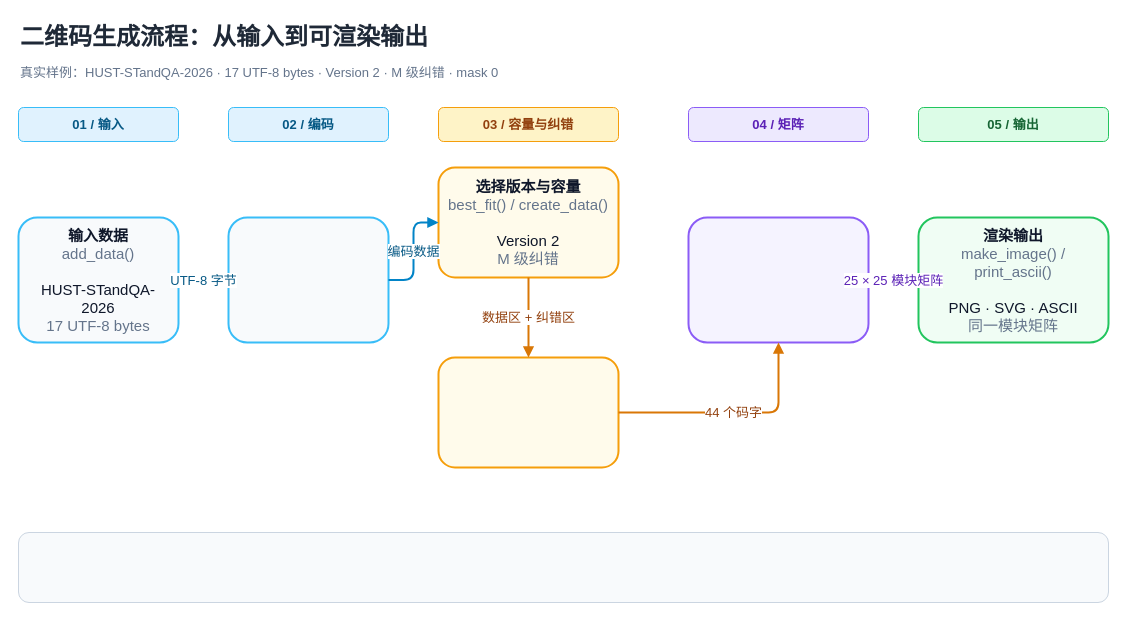
Image size: 1126x620. Some labels were removed from this diagram. Each missing label, with the centre of its shape:
"分析并编码 optimal_data_chunks() BYTE 模式 编码数据" goes at pixel 308 279.
"可核验素材 trace.json：输入、版本、mask、码字、矩阵和输出文件 qr-chain：PNG / SVG / ASCII / matrix bits" goes at pixel 563 567.
"生成模块矩阵 makeImpl() · mask 0 25 × 25 modules 格式信息 + 数据模块" goes at pixel 778 279.
"生成纠错码字 create_bytes() · RS 44 个总码字 数据区 + 纠错区" goes at pixel 528 412.
